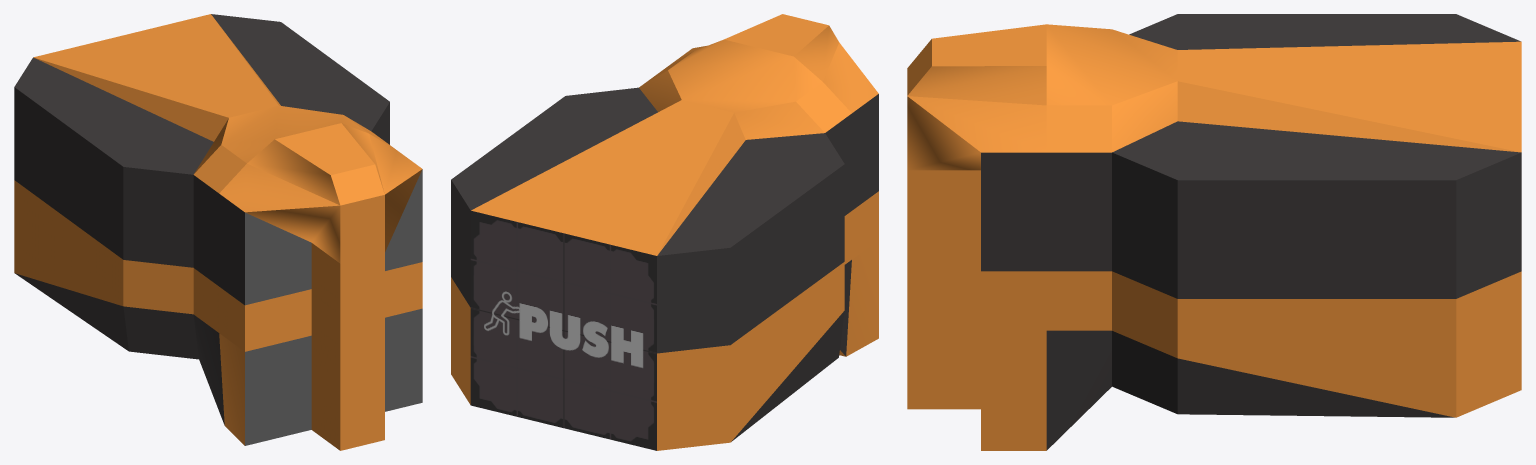
The model's file is SpawnerOnlyHead.obj.
3 renders of one model, left to right at view 1: azimuth 30°, elevation 25°; view 2: azimuth 150°, elevation 25°; view 3: azimuth 270°, elevation 25°, orthographic. The views are drawn at different scales.
Parts seen in each view (by area): view 1: SpawnerOnlyHead; view 2: SpawnerOnlyHead; view 3: SpawnerOnlyHead.
Part boxes in pixels (x1,y1,x2,y2): SpawnerOnlyHead: [14, 14, 422, 450]; SpawnerOnlyHead: [451, 14, 878, 450]; SpawnerOnlyHead: [907, 14, 1521, 450].
Size of the model in its own units: 1.5 by 1.47 by 2.34.
